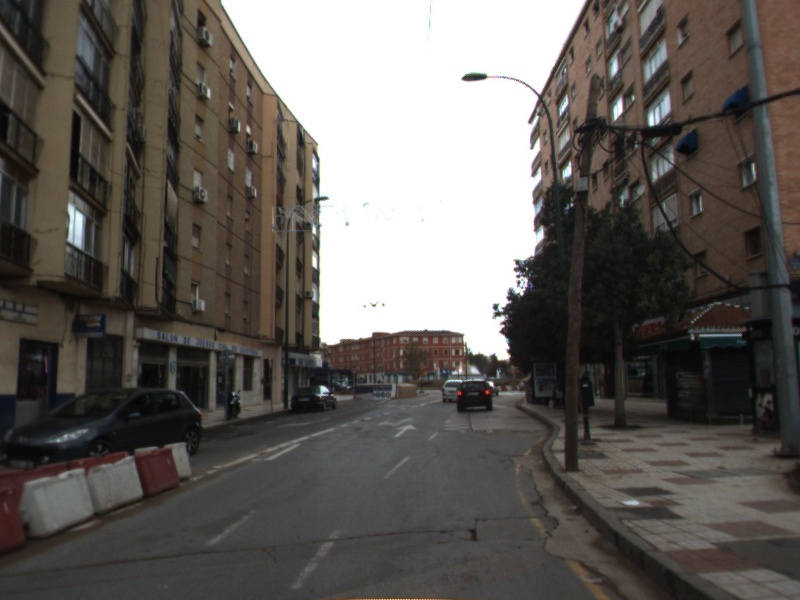STRAIGHT: (391, 422, 419, 439)
STRAIGHT_LEFT: (373, 414, 416, 429)
